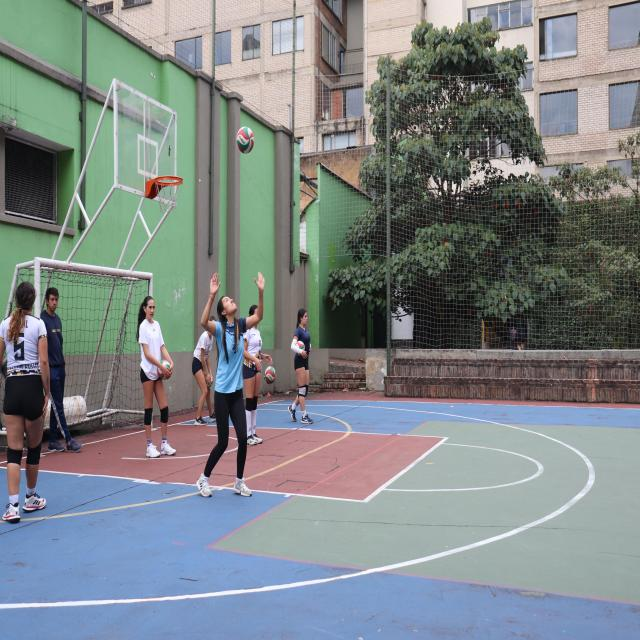volleyball: (237, 125, 254, 154), (264, 366, 276, 385), (295, 340, 305, 350)
